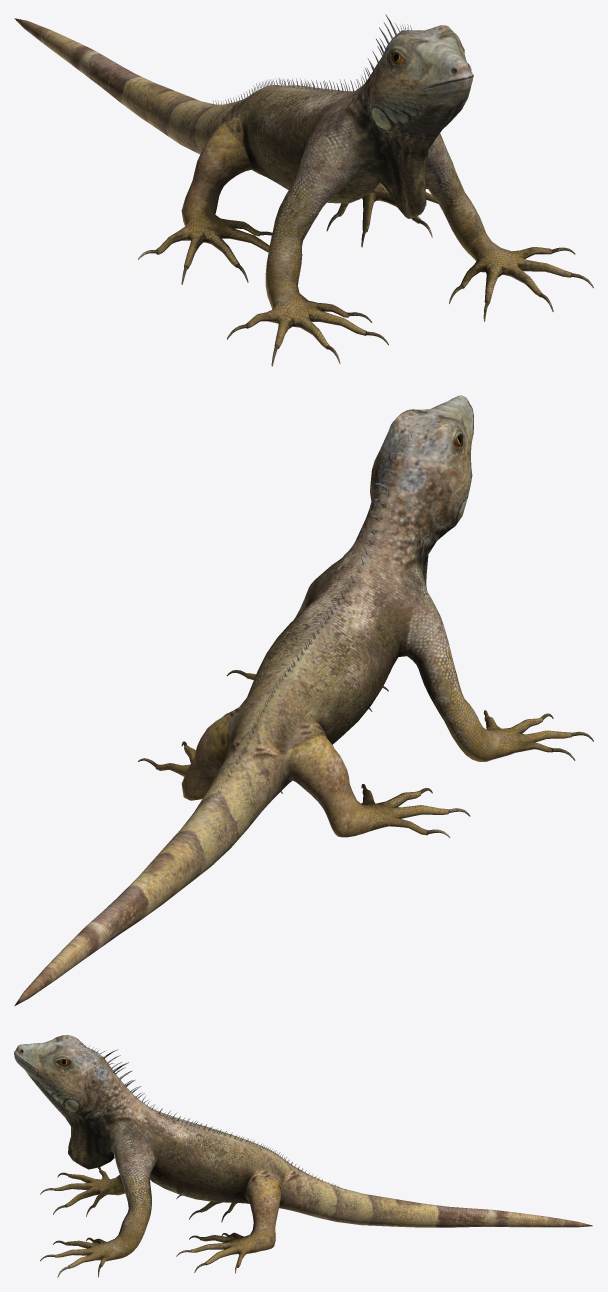
File: Row_iquana.fbx
3 renders of one model, top to bottom at view 1: azimuth 30°, elevation 25°; view 2: azimuth 150°, elevation 25°; view 3: azimuth 270°, elevation 25°, orthographic. The views are drawn at different scales.
Visible parts, largest first — view 1: Iguana_Body, Bake_Bodyhorn1; view 2: Iguana_Body, Bake_Bodyhorn1; view 3: Iguana_Body, Bake_Bodyhorn1.
Boxes of the visible parts, x1=… form: Iguana_Body: x1=14, y1=18, x2=593, y2=366; Bake_Bodyhorn1: x1=212, y1=14, x2=411, y2=104; Iguana_Body: x1=14, y1=395, x2=593, y2=1006; Bake_Bodyhorn1: x1=213, y1=433, x2=411, y2=800; Iguana_Body: x1=14, y1=1035, x2=592, y2=1277; Bake_Bodyhorn1: x1=85, y1=1045, x2=338, y2=1187.
Bounding box in the file's own units: 4.53 × 3.65 × 10.21.
Materials: 2 (2 with a texture image).
